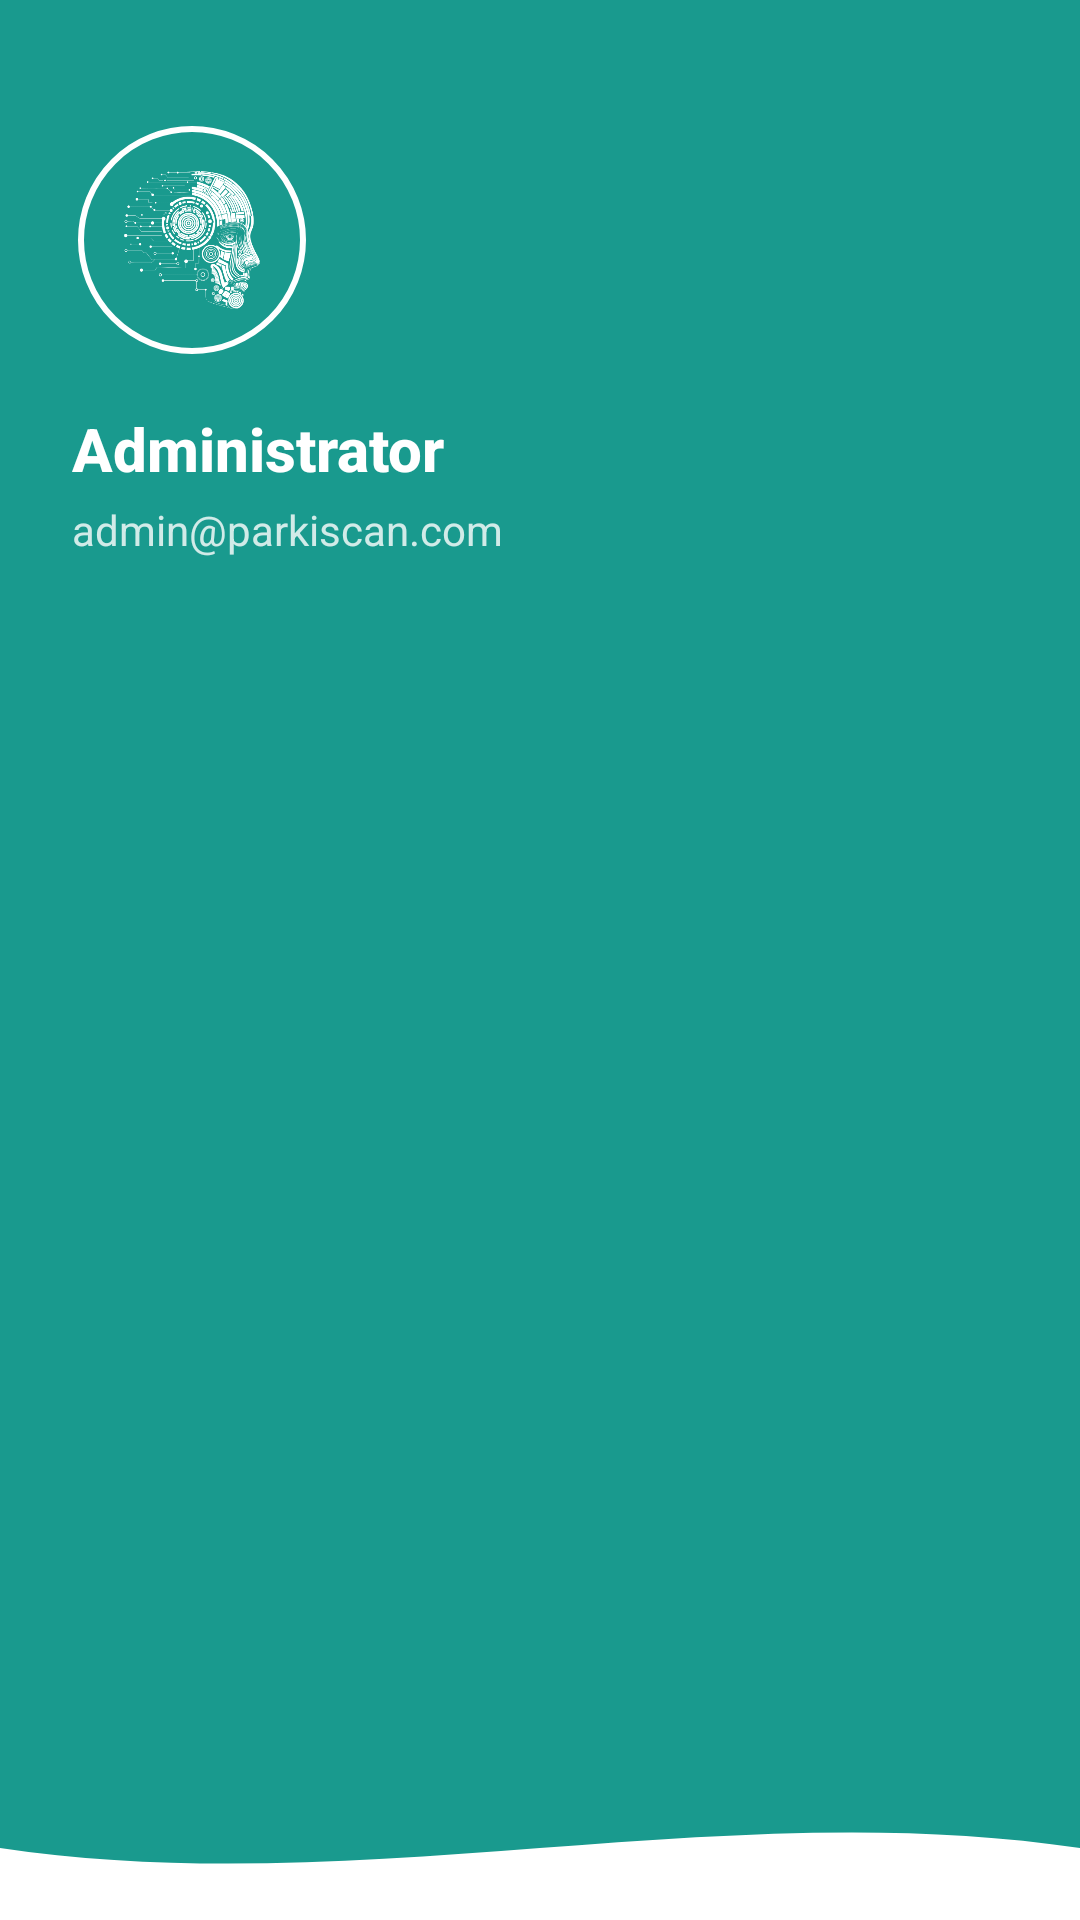

Point at icon controls on the screen. Image size 1080px×1920px, points as (x=x, y=y).
app: (x=192, y=240)
